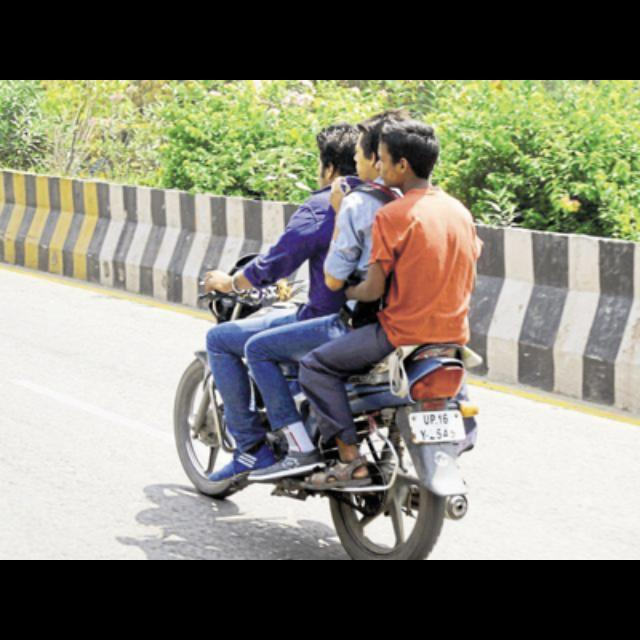Without Helmet: (310, 122, 358, 188)
